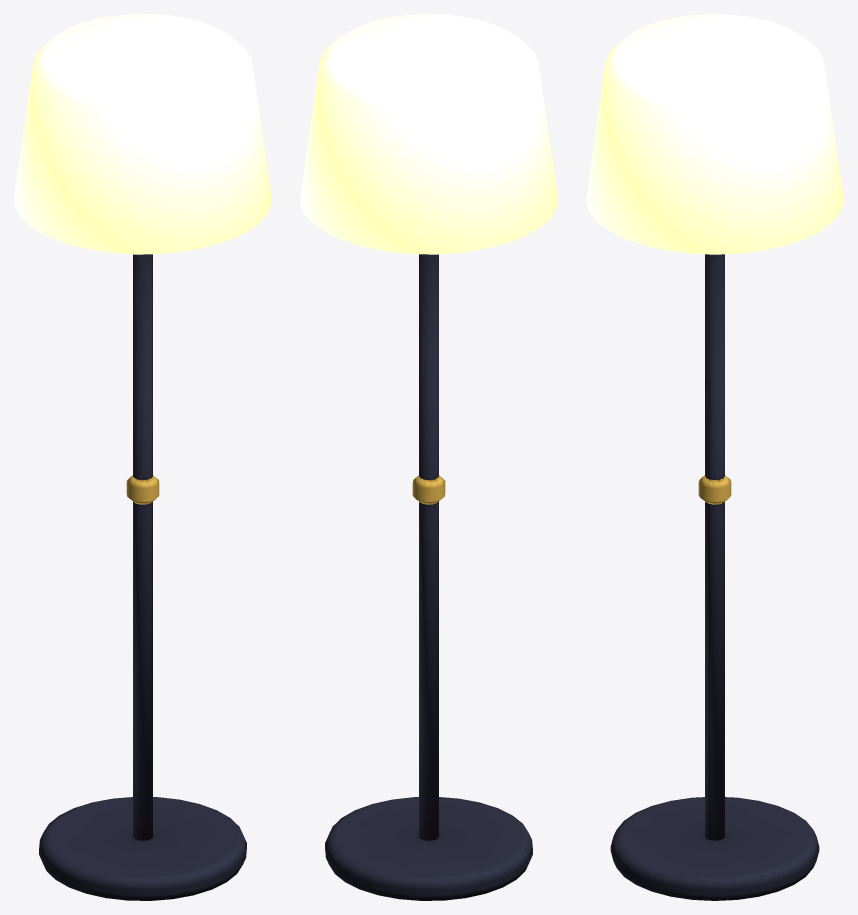
The model's file is floor_lamp.glb.
3 renders of one model, left to right at view 1: azimuth 30°, elevation 25°; view 2: azimuth 150°, elevation 25°; view 3: azimuth 270°, elevation 25°, orthographic.
Visible parts, largest first — view 1: floor_lamp; view 2: floor_lamp; view 3: floor_lamp.
Boxes of the visible parts, x1,y1,x2,y2 form: floor_lamp: (14, 14, 271, 900); floor_lamp: (300, 14, 557, 900); floor_lamp: (586, 14, 843, 900).
Bounding box in the file's own units: 0.47 × 1.62 × 0.47.
3 materials, 2 textured.
